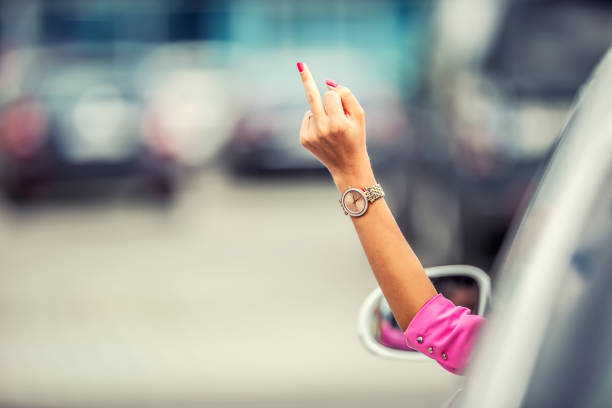insulting_gesture: (295, 59, 367, 165)
